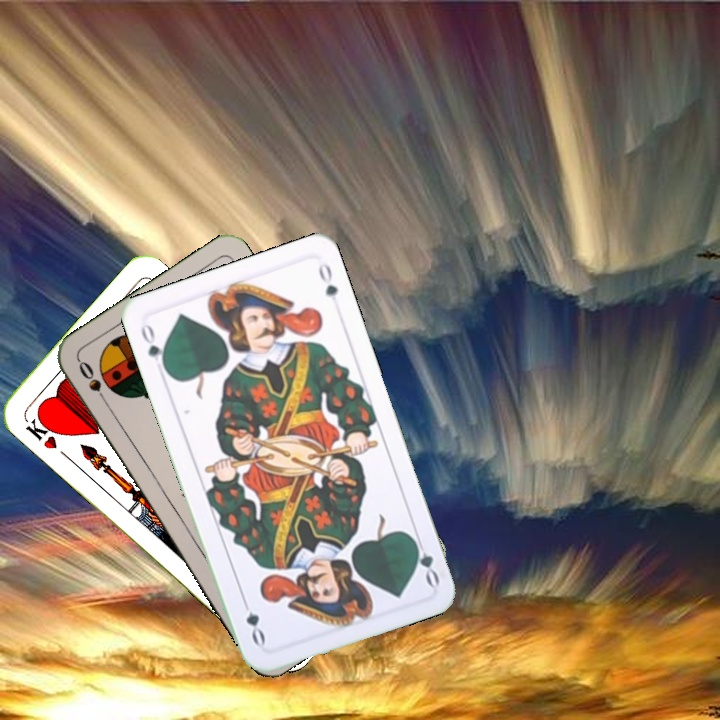GO: (407, 531, 443, 589), (136, 318, 170, 374)
HK: (21, 410, 63, 452)
SO: (74, 357, 112, 410)
